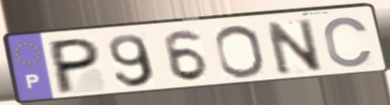6: (162, 28, 211, 84)
9: (106, 33, 157, 89)
C: (321, 15, 375, 70)
N: (263, 16, 327, 78)
O: (212, 23, 268, 80)
P: (49, 36, 102, 98)
